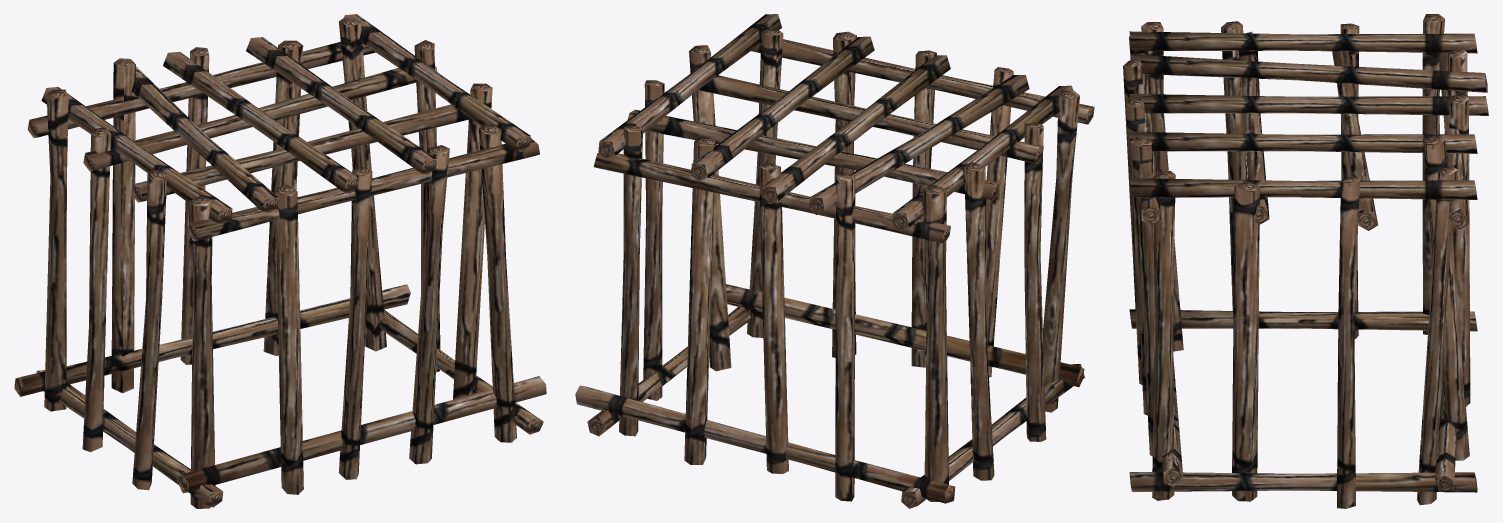
Rendered from PRP_PokkuCage.FBX.
The picture shows the model from 3 angles, left to right: view 1: azimuth 30°, elevation 25°; view 2: azimuth 150°, elevation 25°; view 3: azimuth 270°, elevation 25°; orthographic projection. The views are drawn at different scales.
Parts seen in each view (by area): view 1: PRP_PokkuCage; view 2: PRP_PokkuCage; view 3: PRP_PokkuCage.
Part boxes in pixels (x1=…): PRP_PokkuCage: x1=14, y1=14, x2=546, y2=508; PRP_PokkuCage: x1=575, y1=14, x2=1094, y2=508; PRP_PokkuCage: x1=1123, y1=14, x2=1488, y2=508.
Bounding box in the file's own units: 190 × 156 × 156.
